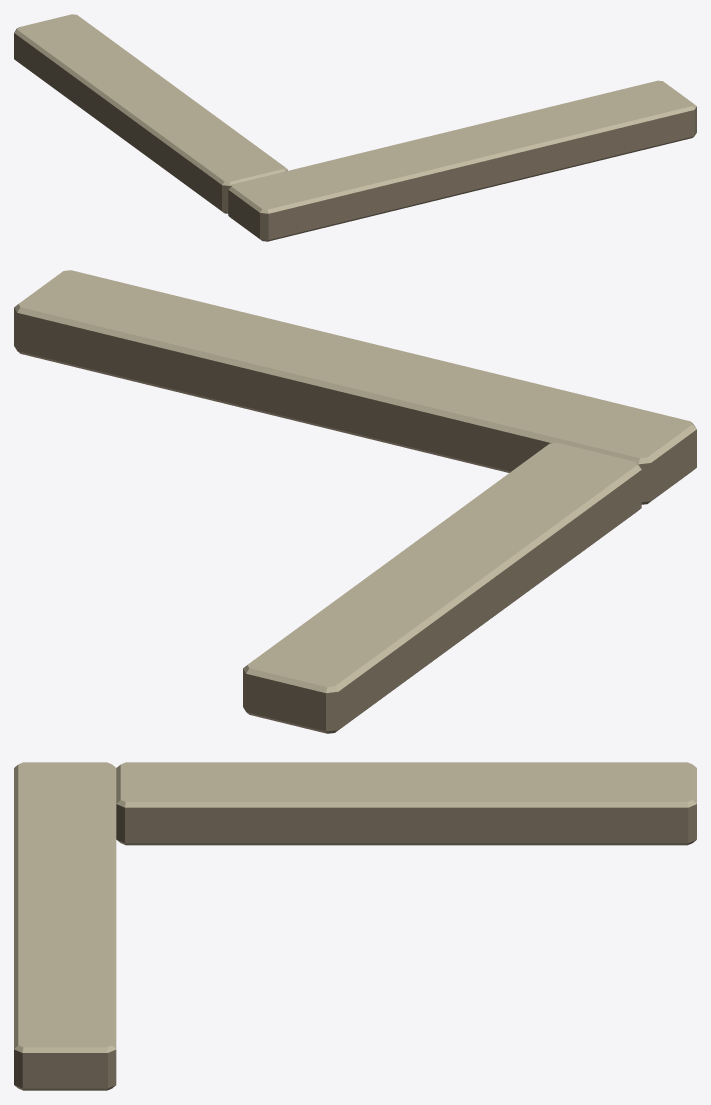
The model's file is floor-border-corner.glb.
The picture shows the model from 3 angles, top to bottom: view 1: azimuth 30°, elevation 25°; view 2: azimuth 150°, elevation 25°; view 3: azimuth 270°, elevation 25°; orthographic projection. The views are drawn at different scales.
Parts seen in each view (by area): view 1: floor-border-corner__body; view 2: floor-border-corner__body; view 3: floor-border-corner__body.
Boxes of the visible parts, box(x1,y1,x2,y2) form: floor-border-corner__body: box(14, 14, 696, 241); floor-border-corner__body: box(14, 270, 696, 733); floor-border-corner__body: box(14, 762, 696, 1090).
Bounding box in the file's own units: 2 × 0.14 × 2.
